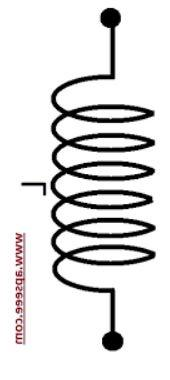inductor: (46, 61, 158, 302)
